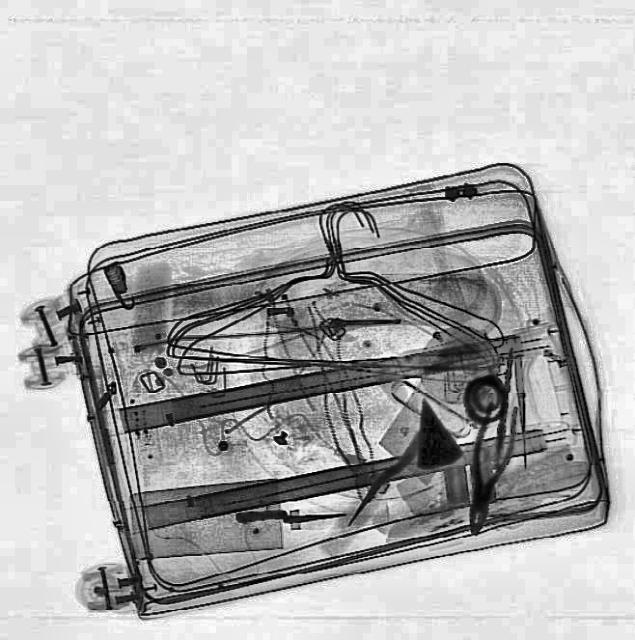Pliers: (456, 398, 522, 536)
